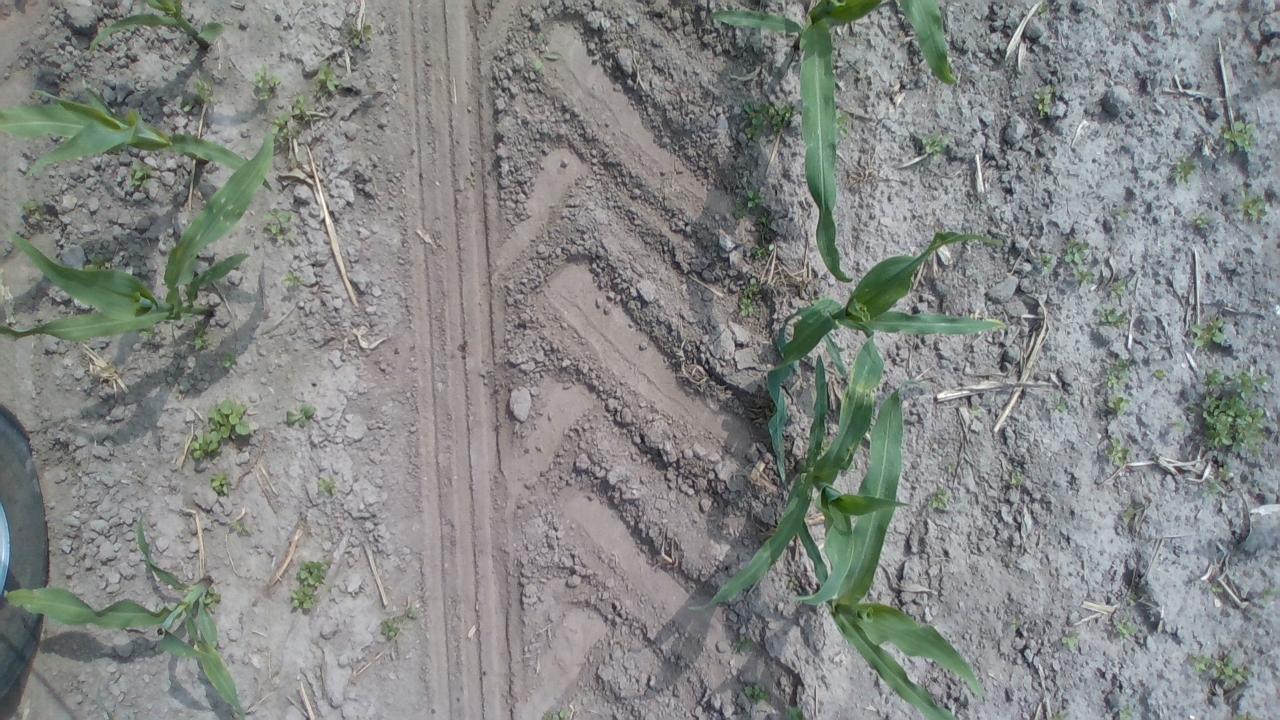Maize: (763, 234, 1006, 596), (707, 0, 960, 287), (690, 316, 916, 613), (794, 389, 987, 720), (0, 136, 282, 341), (1, 508, 248, 720), (0, 76, 282, 195), (88, 0, 224, 52)
Weeds: (1202, 393, 1268, 458), (190, 399, 254, 461), (742, 100, 798, 144), (1190, 652, 1254, 688), (289, 560, 330, 609), (1104, 356, 1134, 417), (1061, 238, 1096, 286), (1217, 119, 1258, 159), (183, 72, 222, 112), (1189, 312, 1228, 350), (532, 30, 562, 75), (918, 129, 958, 160), (1232, 368, 1270, 400), (381, 608, 417, 640), (262, 208, 296, 240), (1237, 189, 1266, 226), (269, 111, 303, 142), (737, 276, 762, 318), (337, 22, 377, 48), (312, 61, 340, 96), (734, 190, 769, 218), (255, 66, 282, 102), (1208, 462, 1234, 496), (1096, 304, 1130, 328), (288, 93, 317, 121), (1105, 434, 1130, 466), (1174, 152, 1198, 185), (284, 402, 316, 426), (1034, 84, 1057, 116), (206, 470, 232, 498), (128, 158, 151, 189), (15, 198, 44, 222), (928, 484, 954, 510), (744, 679, 770, 704), (85, 250, 114, 272), (1114, 615, 1138, 638), (1202, 366, 1226, 388), (192, 318, 208, 350), (204, 586, 222, 614), (832, 109, 849, 137), (1033, 251, 1054, 272), (318, 475, 338, 497), (1006, 464, 1026, 486), (217, 350, 240, 369), (1062, 629, 1082, 649), (282, 268, 304, 286), (734, 635, 754, 654), (756, 214, 770, 241), (542, 707, 570, 720), (786, 705, 809, 720), (1191, 207, 1209, 226), (1120, 505, 1136, 522), (1110, 280, 1126, 297), (818, 437, 832, 456), (1262, 586, 1280, 600), (1118, 705, 1134, 720), (1230, 712, 1258, 720), (1038, 0, 1052, 16), (786, 574, 799, 590), (750, 246, 768, 257), (970, 400, 982, 416), (138, 327, 155, 338), (1009, 615, 1020, 631), (1152, 367, 1168, 378), (1056, 398, 1068, 412), (1050, 710, 1066, 720), (1208, 582, 1224, 592), (1174, 418, 1186, 431), (1117, 208, 1129, 221), (1125, 590, 1139, 600), (230, 519, 242, 529), (1186, 400, 1198, 410), (946, 463, 956, 472), (848, 463, 857, 472)
